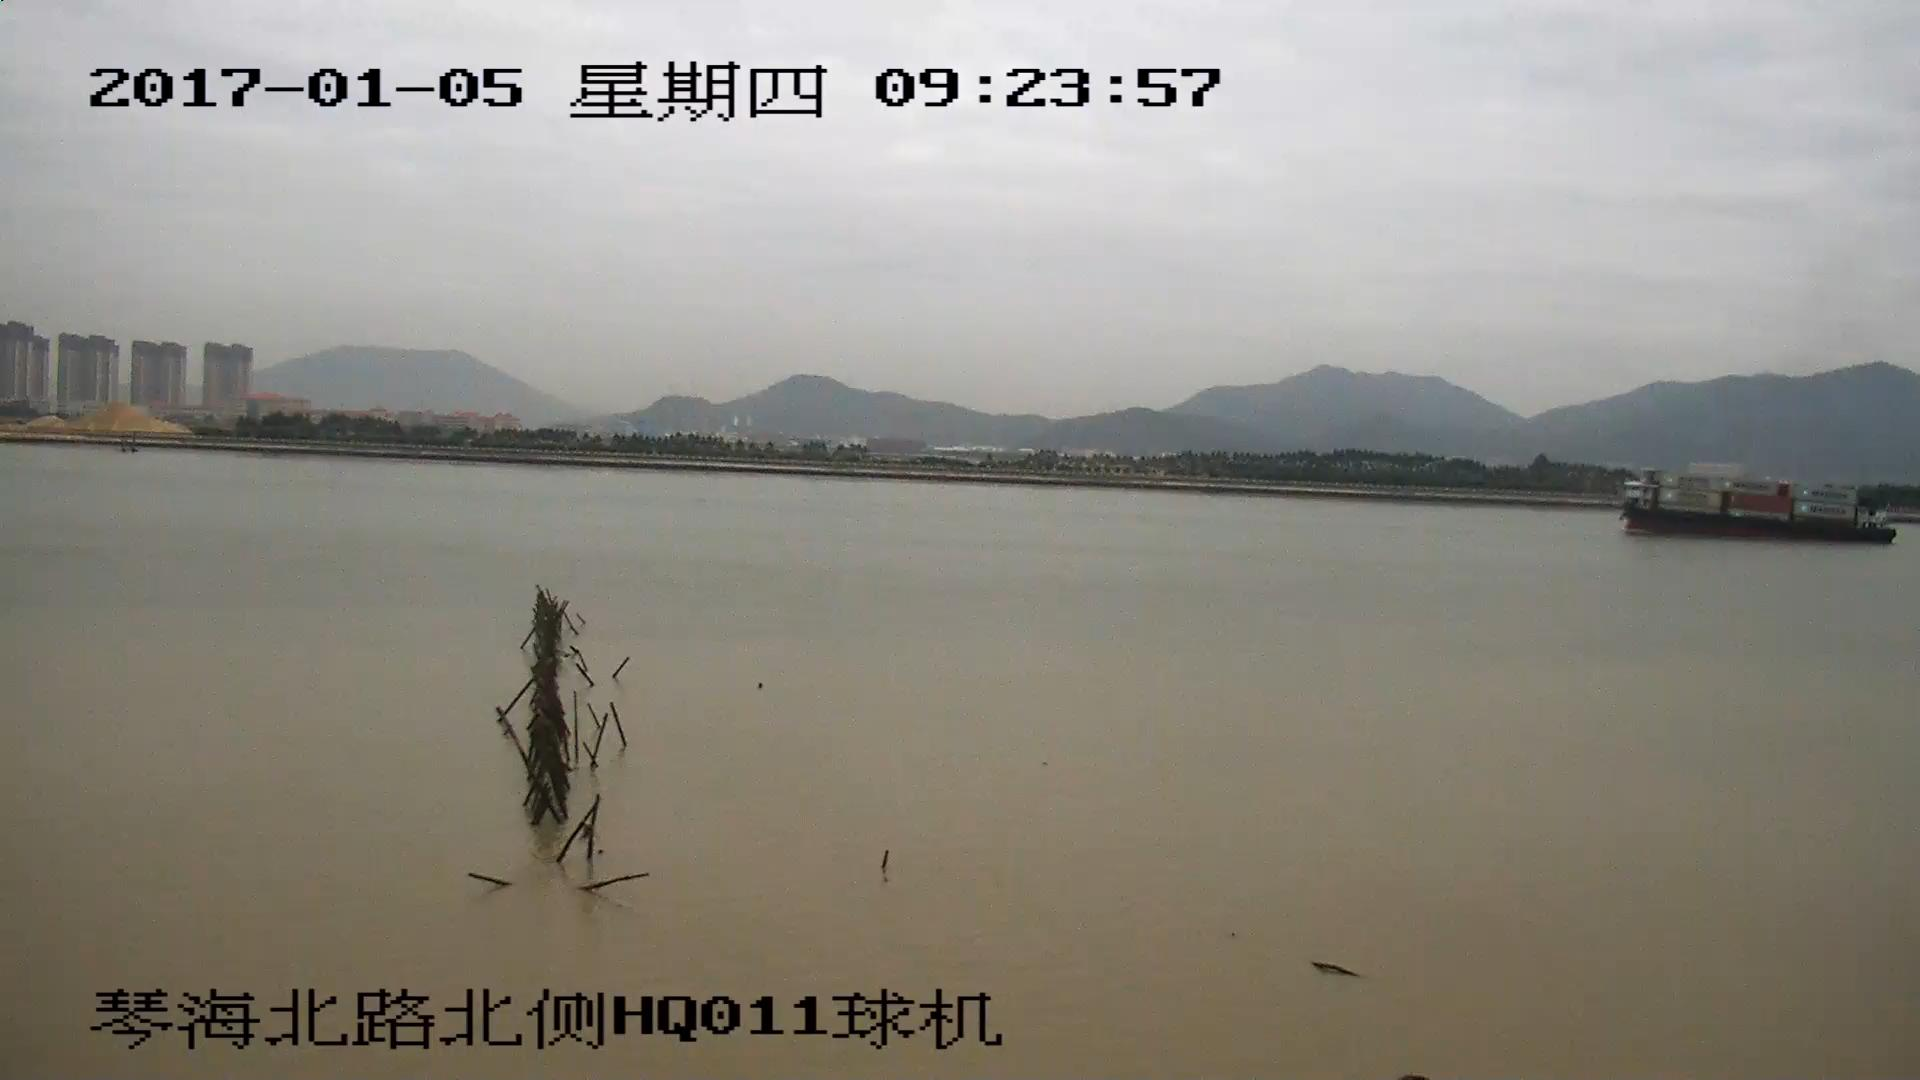container ship: (1617, 469, 1896, 548)
